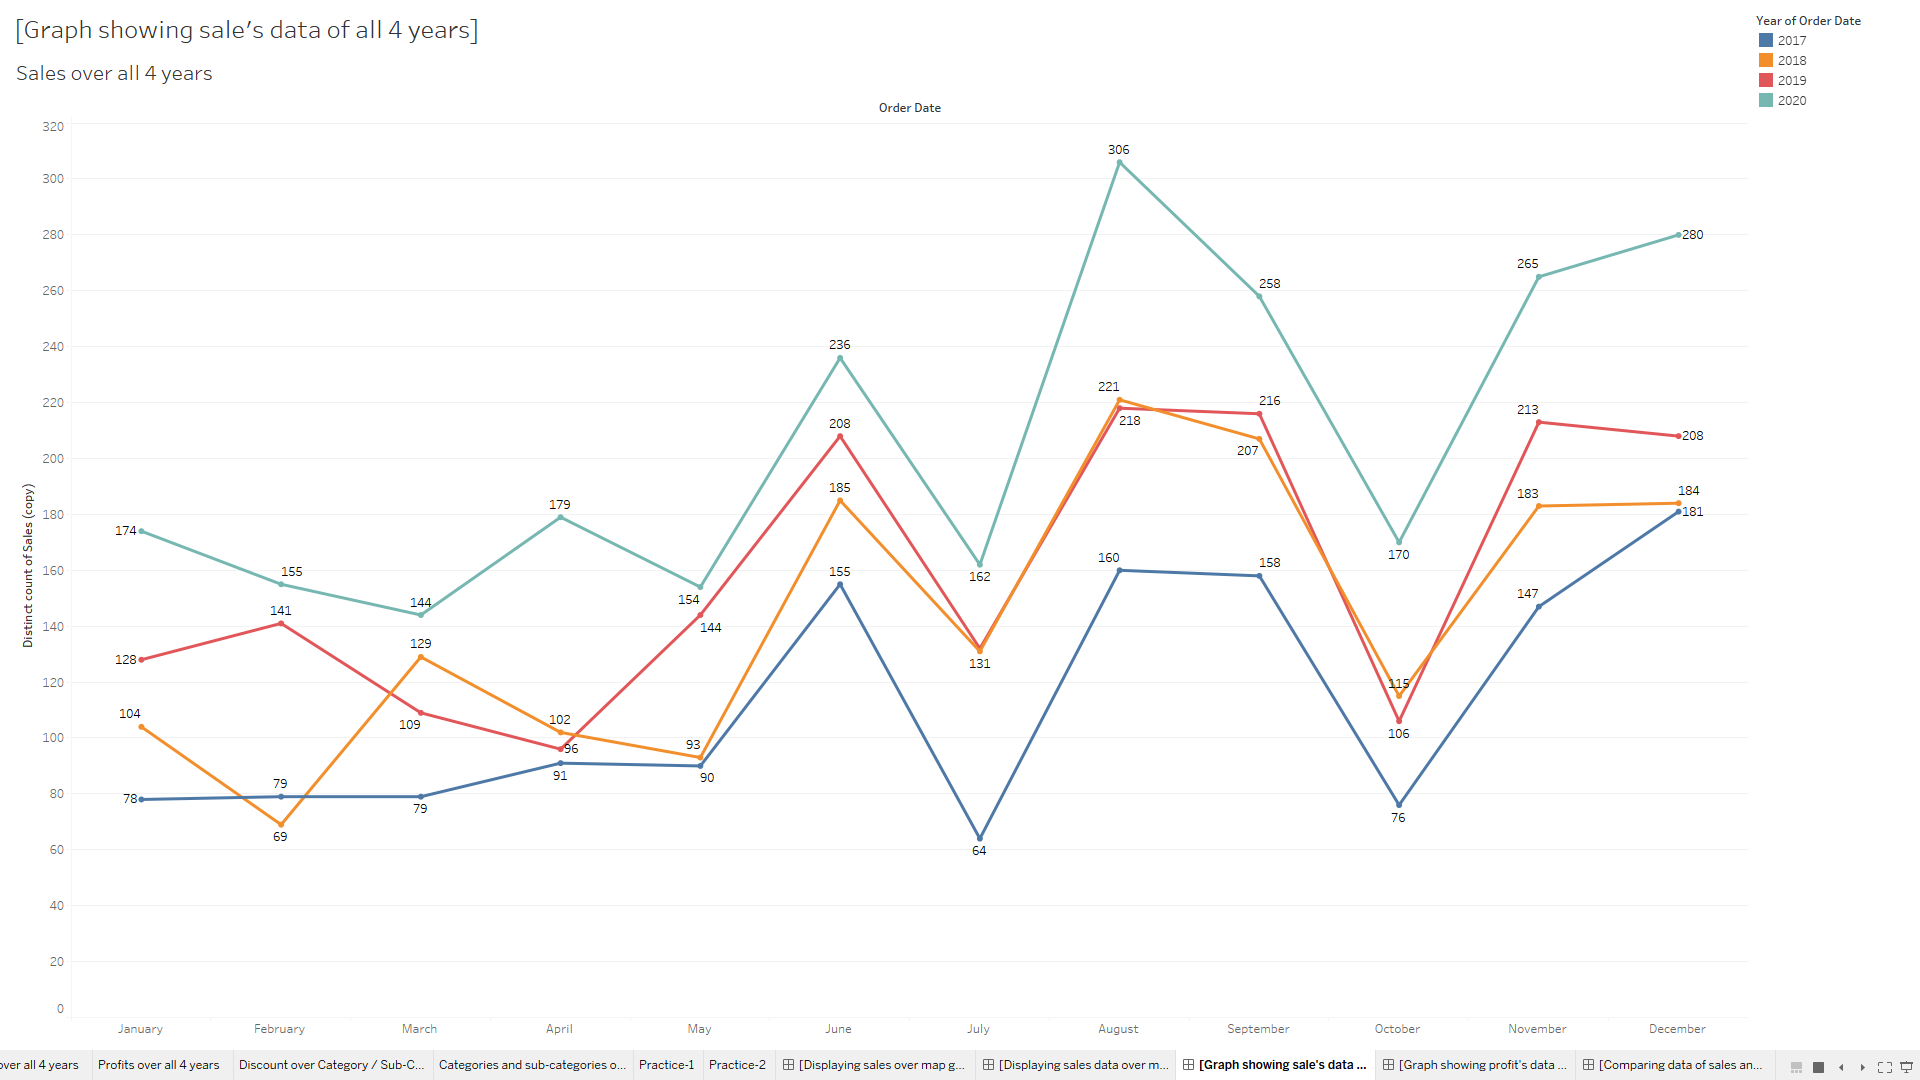

What the dashboard file says about the page in this screenshot:
{"tool":"tableau","page":{"name":"[Graph showing sale's data of all 4 years]","canvas":[1000,1000],"units":"permille","ordinal":4},"visuals":[{"type":"title","box":[5,8.8,990,46.5]},{"type":"worksheet","title":"Sales over all 4 years","mark":"Automatic","rows":["Sales (copy)_855965427656978433"],"cols":["Order Date"],"box":[5,55.3,990,935.8]}]}

Visuals, with their boxes on the dashboard's canvas, which has no fixed pixel size, in thousandths of its width and height (x1, y1, x2, y2). These are canvas units, not pixel positions in the 1920x1080 screenshot, which may show the page scaled, cropped or inside an application window:
title: <box>5,9,995,55</box>
"Sales over all 4 years" worksheet: <box>5,55,995,991</box>
